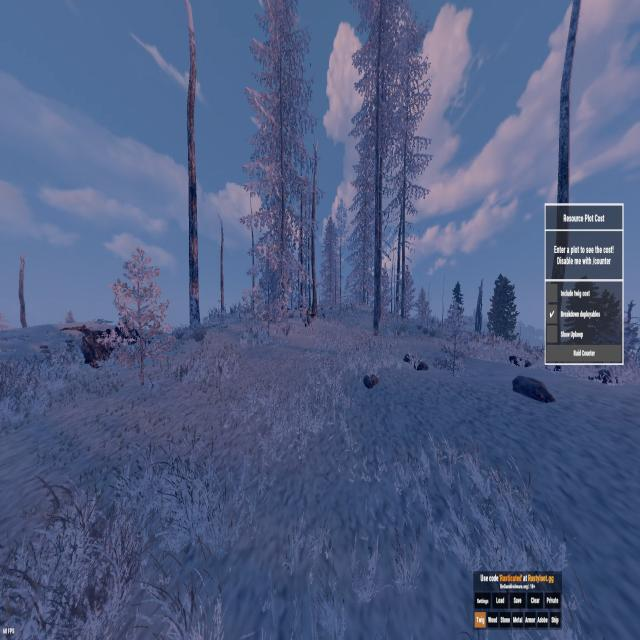Player: (305, 306, 314, 332)
